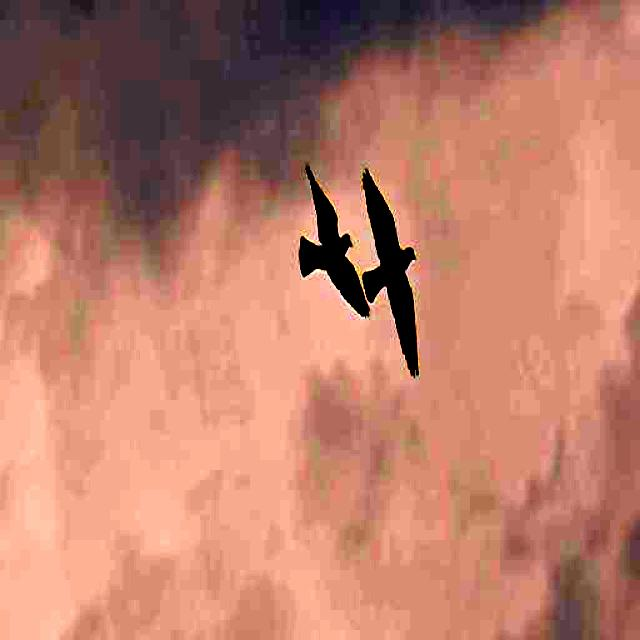airplane: (358, 151, 451, 400), (292, 150, 368, 336)
